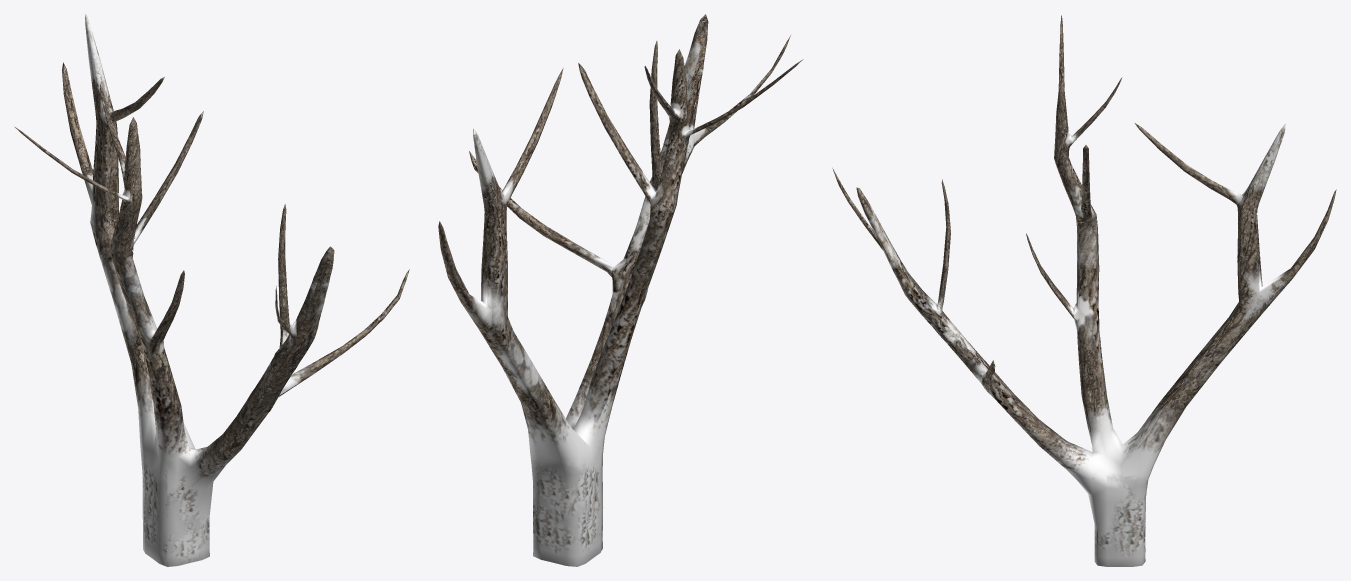
Rendered from tree1.fbx.
3 renders of one model, left to right at view 1: azimuth 30°, elevation 25°; view 2: azimuth 150°, elevation 25°; view 3: azimuth 270°, elevation 25°, orthographic. The views are drawn at different scales.
Parts seen in each view (by area): view 1: tree1; view 2: tree1; view 3: tree1.
Part boxes in pixels (bbox=[...]): tree1: bbox=[15, 14, 409, 566]; tree1: bbox=[438, 14, 803, 566]; tree1: bbox=[832, 15, 1336, 566].
Size of the model in its own units: 7.54 by 10 by 10.03.
